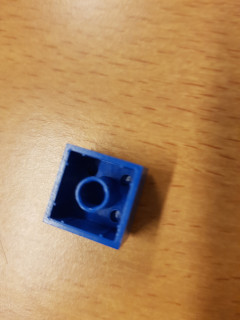2x2 blue: (41, 142, 151, 252)
